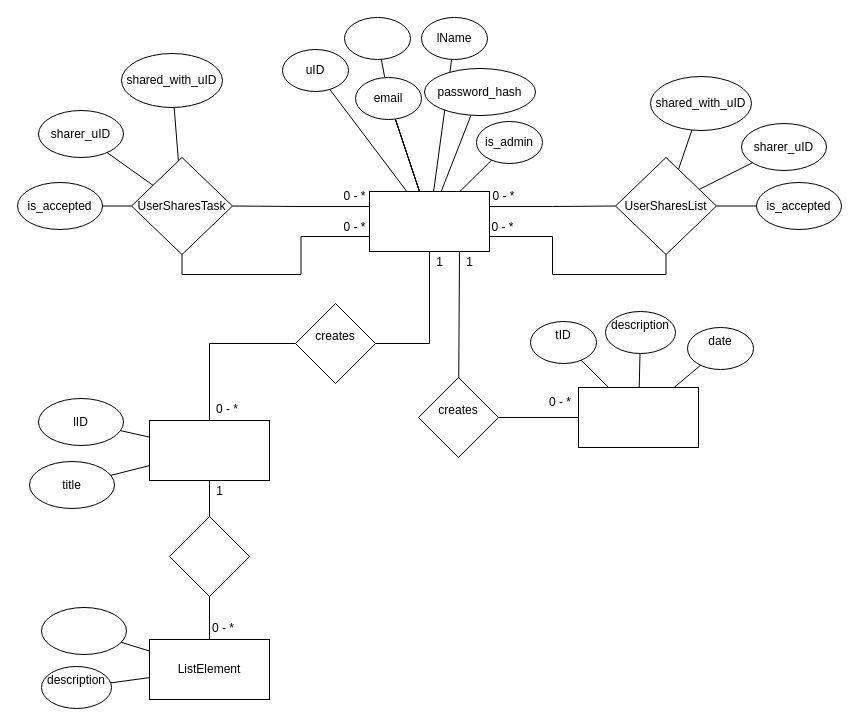
Some shapes in this 859 by 726 pixel diagram are drawn without their labels. The box of each missing label's shape, as (x1, y1, x2, y2) in pixels:
fName: (344, 16, 410, 60)
has: (168, 516, 250, 596)
leID: (40, 606, 126, 654)
List: (148, 420, 270, 480)
Task: (578, 386, 698, 448)
User: (368, 190, 490, 252)
